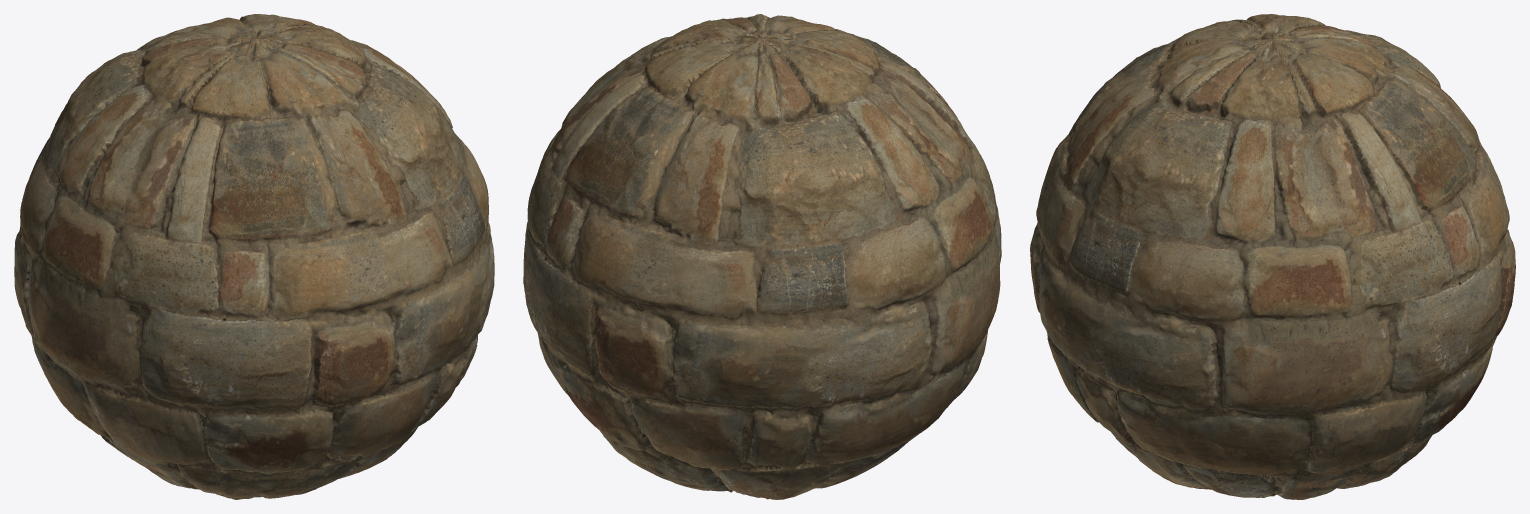
The model's file is rustic_stone_wall_2k.gltf.
3 renders of one model, left to right at view 1: azimuth 30°, elevation 25°; view 2: azimuth 150°, elevation 25°; view 3: azimuth 270°, elevation 25°, orthographic.
Parts seen in each view (by area): view 1: sphere_gltf; view 2: sphere_gltf; view 3: sphere_gltf.
Part boxes in pixels (bbox=[...]): sphere_gltf: bbox=[14, 14, 494, 499]; sphere_gltf: bbox=[523, 14, 1001, 499]; sphere_gltf: bbox=[1030, 14, 1515, 499].
Size of the model in its own units: 1.56 by 1.57 by 1.57.
1 material, 1 textured.
